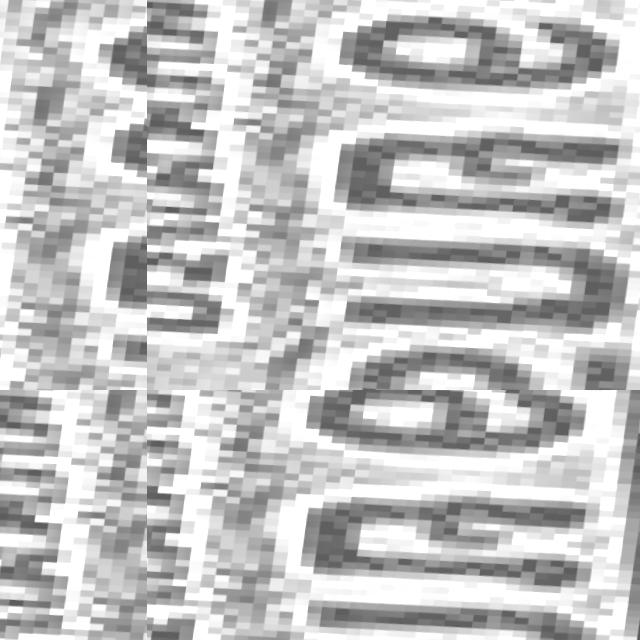license-plate: (147, 0, 640, 390), (147, 390, 640, 640), (0, 0, 147, 390), (0, 390, 147, 640)
